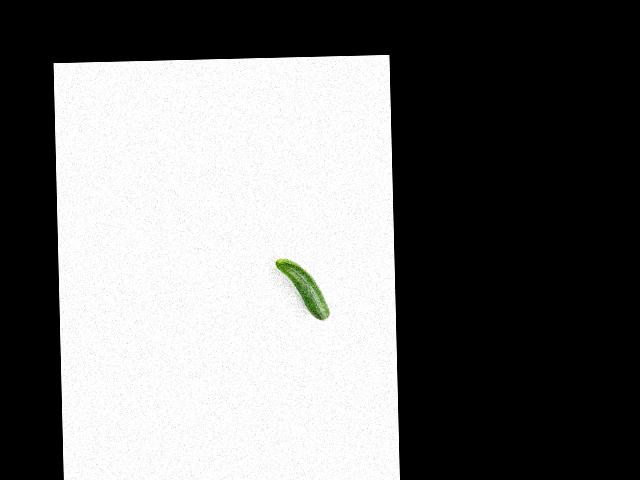cucumber: (275, 257, 329, 321)
